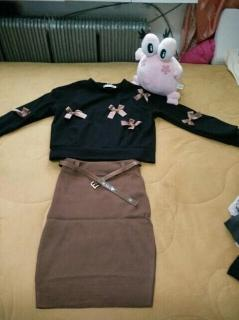long sleeve top: (0, 77, 239, 163)
skirt: (35, 157, 157, 308)
